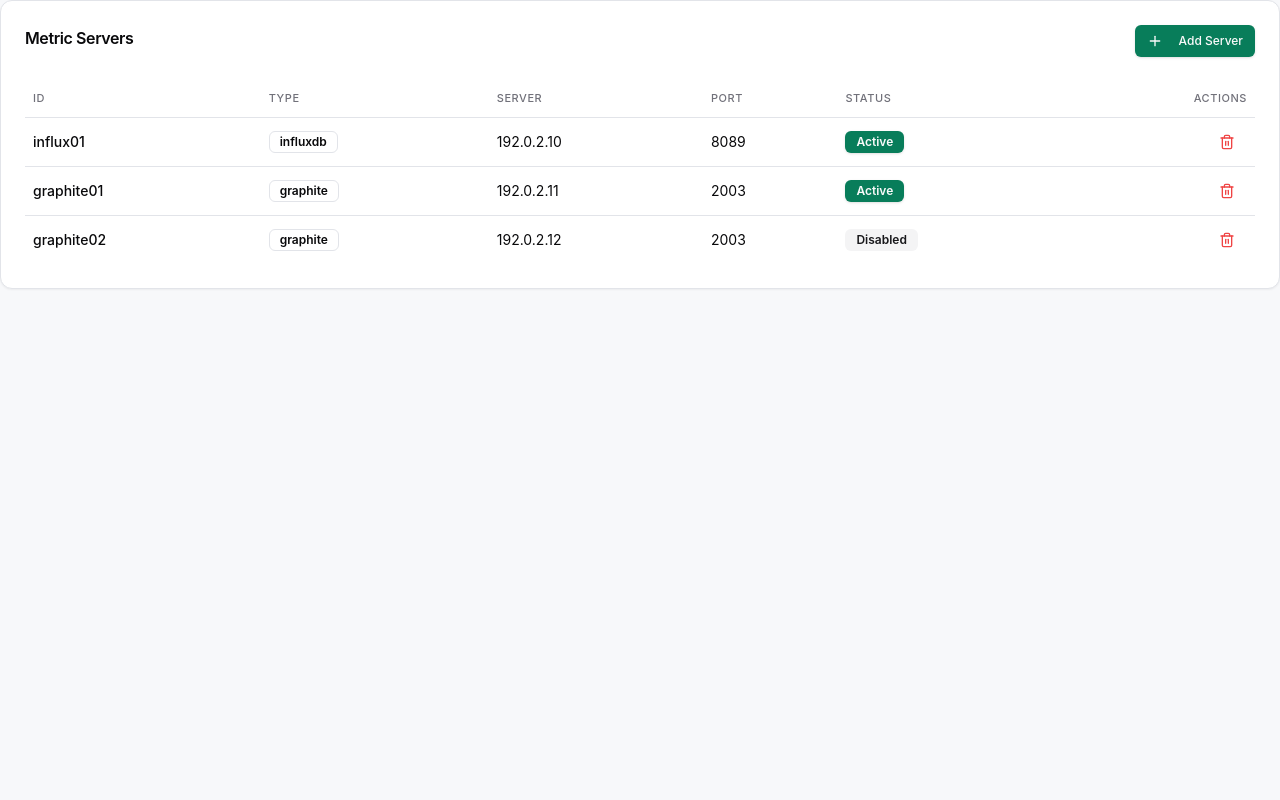
Test: ClusterMetricServersTab — deleting a server › asks first, naming the server, and sends nothing yet
Click the button named "Delete graphite01" at (1227,190), box [1207,174,1247,206]
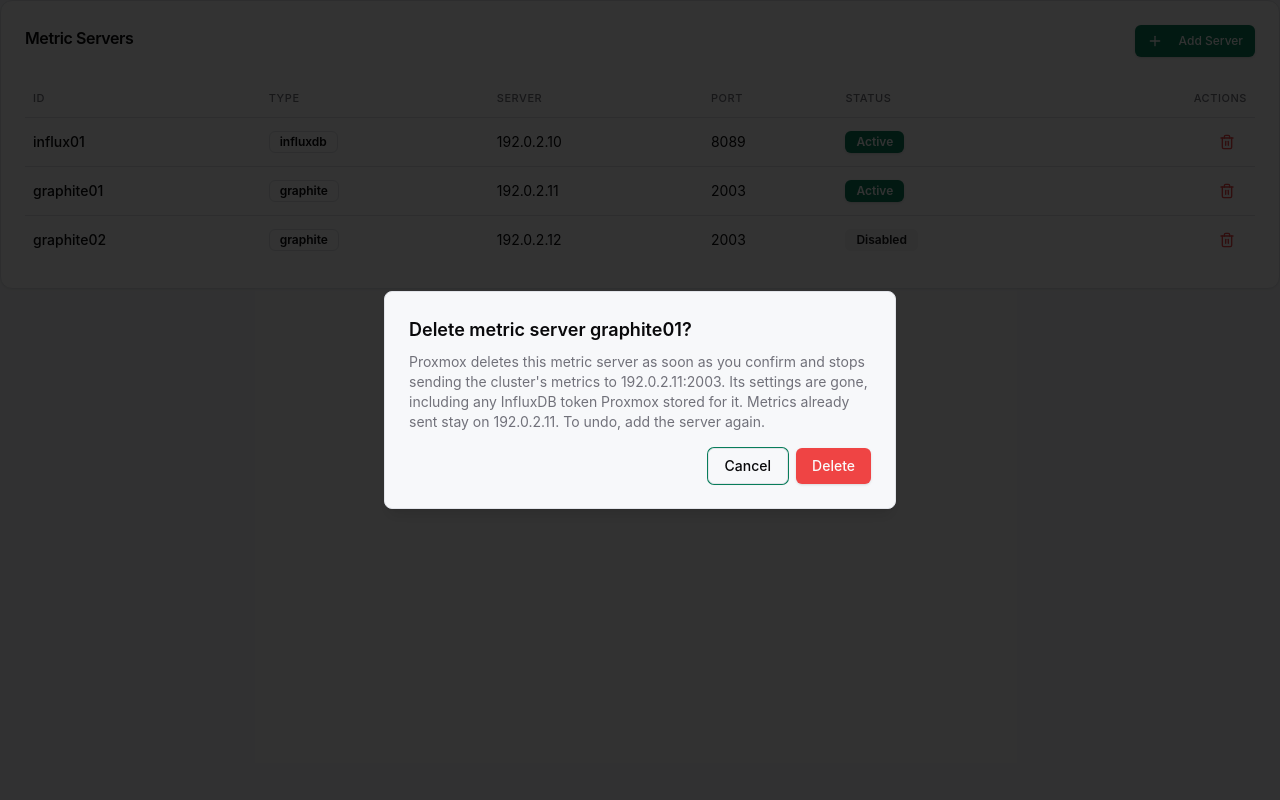
Check: the heading "Delete metric server graphite01?" is shown, box [409,319,692,340]
Check: the dialog shows "stops sending the cluster's metrics to 192.0.2.11:2003", box [409,353,868,430]
Check: the dialog shows "Metrics already sent stay on 192.0.2.11.", box [409,353,868,430]
